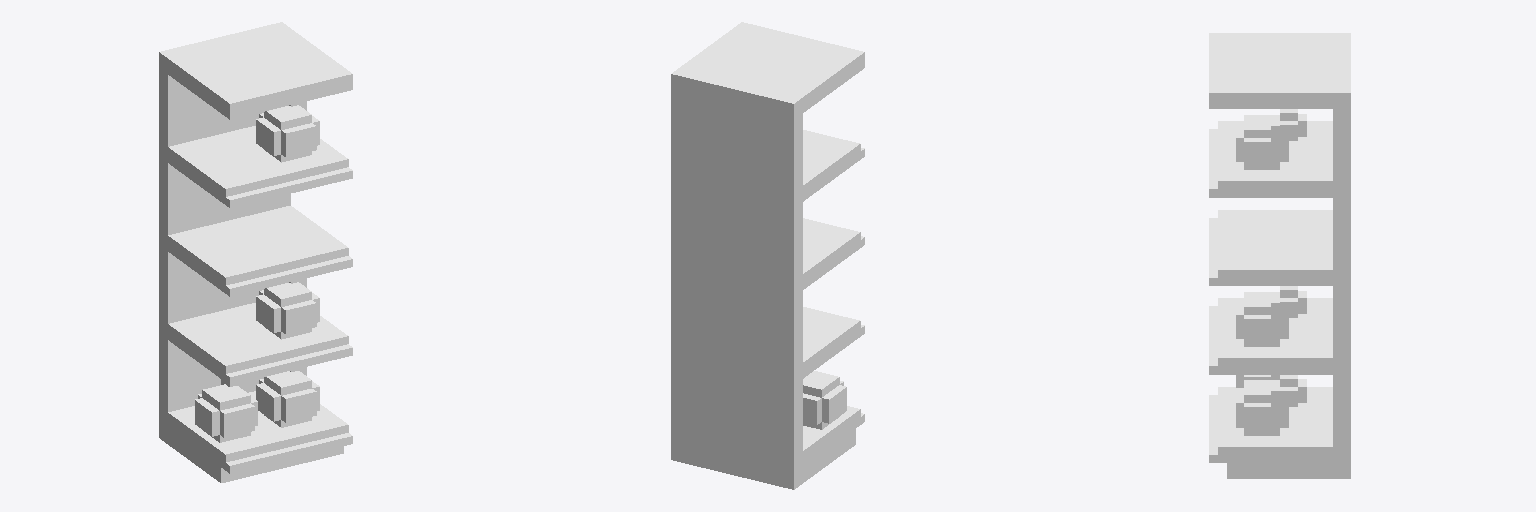
The model's file is fullMeatShelf2.obj.
3 renders of one model, left to right at view 1: azimuth 30°, elevation 25°; view 2: azimuth 150°, elevation 25°; view 3: azimuth 270°, elevation 25°, orthographic.
Parts seen in each view (by area): view 1: object 1; view 2: object 1; view 3: object 1.
Boxes of the visible parts, <box> form: object 1: <box>159,22,352,482</box>; object 1: <box>671,22,864,489</box>; object 1: <box>1209,33,1350,478</box>.
Bounding box in the file's own units: 1.6 × 4.8 × 1.6.